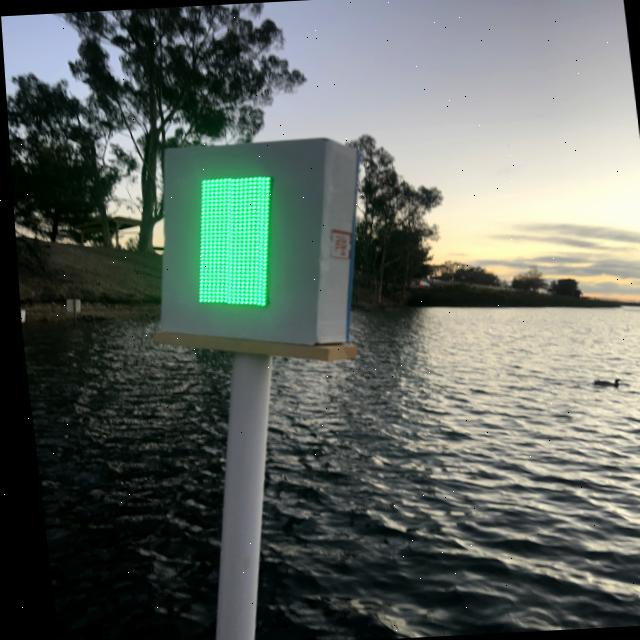led: (168, 159, 310, 323)
